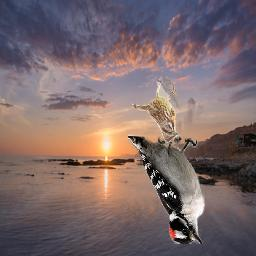Sparrow: (132, 77, 179, 144)
Woodpecker: (129, 134, 206, 244)
